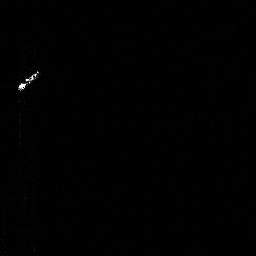ship: (14, 66, 43, 93)
